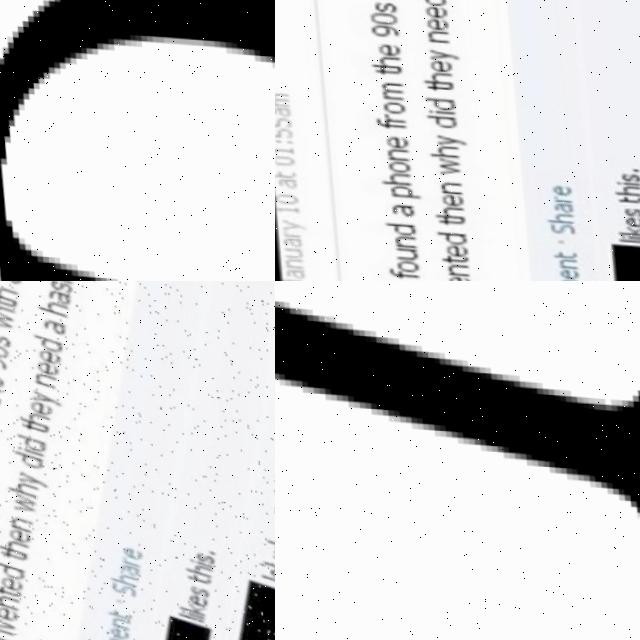0: (360, 9, 390, 24), (275, 191, 287, 203), (275, 153, 284, 166)
1: (275, 144, 285, 154), (275, 205, 287, 212)
5: (275, 115, 283, 127), (275, 125, 282, 137)
9: (361, 23, 391, 36)
D: (0, 0, 275, 281)
I: (275, 297, 640, 534)
